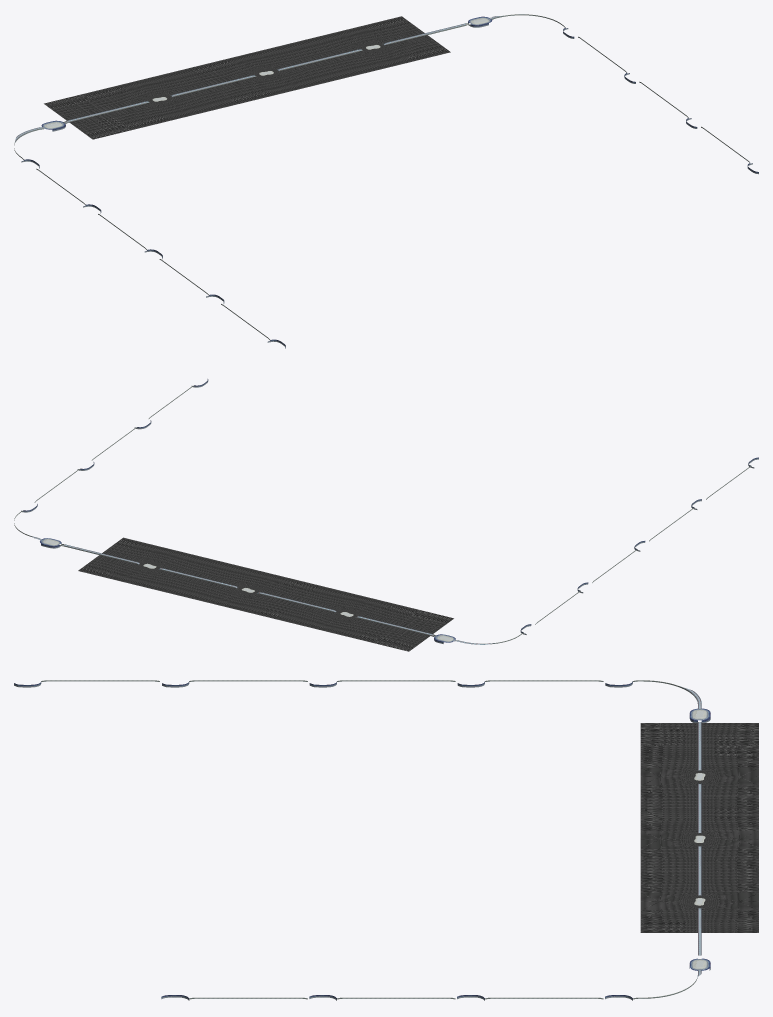
Rendered from Egg_hawk_stage_4.obj.
The picture shows the model from 3 angles, top to bottom: view 1: azimuth 30°, elevation 25°; view 2: azimuth 150°, elevation 25°; view 3: azimuth 270°, elevation 25°; orthographic projection. The views are drawn at different scales.
Parts seen in each view (by area): view 1: obj1, obj2, obj3; view 2: obj1, obj2, obj3; view 3: obj1, obj2, obj3.
Part boxes in pixels (x1,y1,x2,y2): obj1: [44, 16, 450, 139]; obj2: [14, 14, 758, 348]; obj3: [67, 45, 380, 121]; obj1: [78, 537, 453, 651]; obj2: [14, 379, 758, 644]; obj3: [143, 563, 432, 634]; obj1: [640, 723, 758, 932]; obj2: [14, 680, 710, 1000]; obj3: [694, 722, 705, 905].
Size of the model in its own units: 25650 by 130 by 25190.
